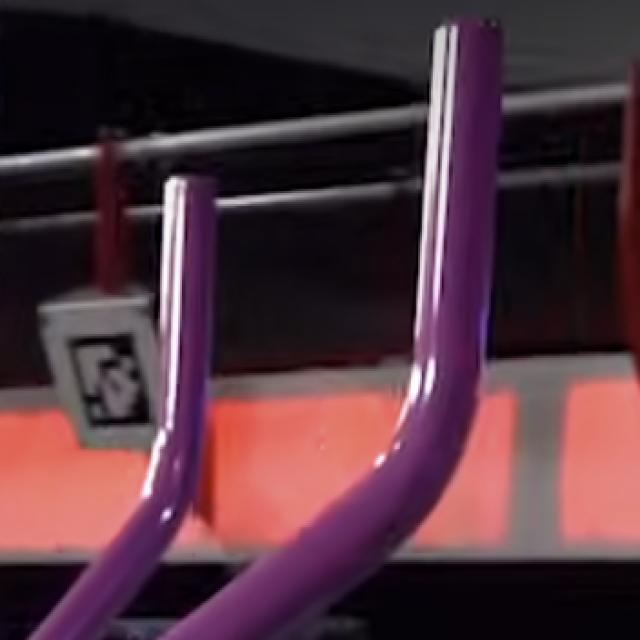Reef: (414, 17, 502, 371), (155, 176, 213, 514)
